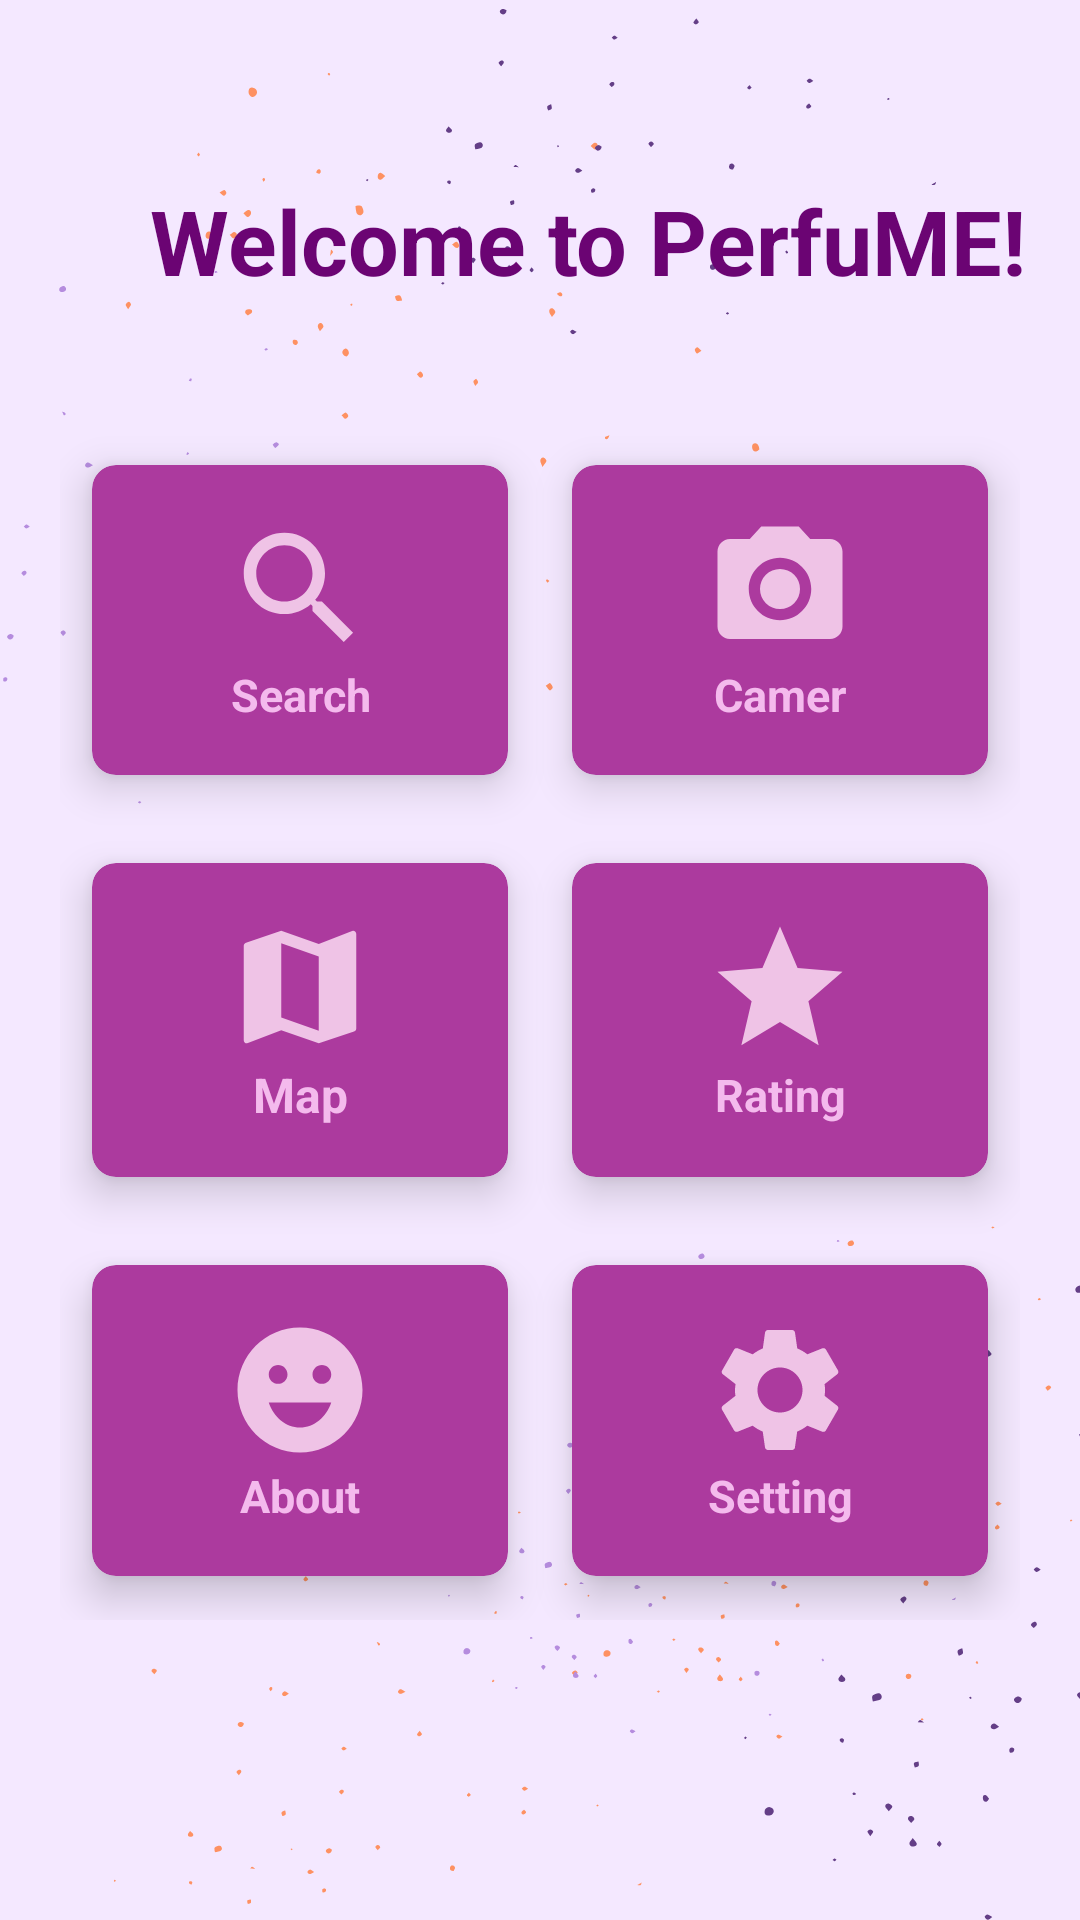

Icon click points for this 1080*1920 phone screenshot, format point (x, y):
star: point (780, 986)
